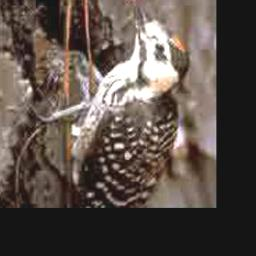Woodpecker: (41, 0, 188, 203)
